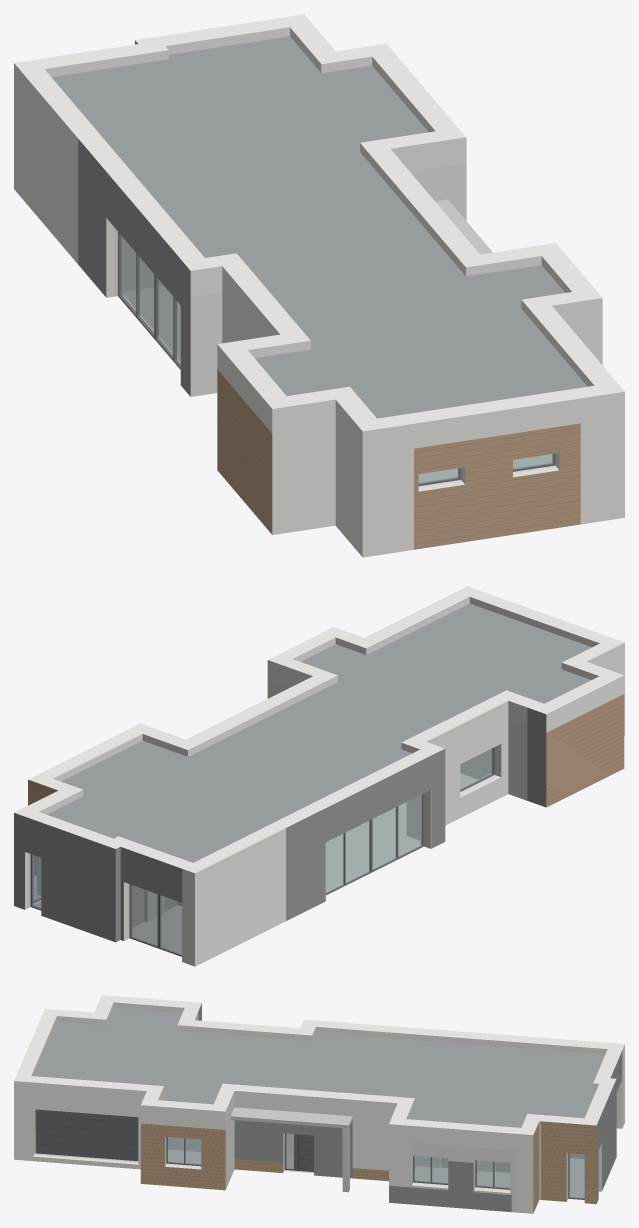
3 views of the same model, one above another, from view 1: azimuth 30°, elevation 25°; view 2: azimuth 150°, elevation 25°; view 3: azimuth 270°, elevation 25° (orthographic). The views are drawn at different scales.
Parts seen in each view (by area): view 1: material_014, material_017, material_015, material_019, material_018, material_011, material_003, material_012, material_002, material_020, material_000, material_016; view 2: material_014, material_015, material_018, material_017, material_003, material_019, material_012, material_011, material_000, material_002, material_010; view 3: material_014, material_017, material_015, material_019, material_018, material_011, material_004, material_003, material_016, material_012, material_000, material_007 (+2 smaller).
Part boxes in pixels (x1,y1,x2,y2): material_014: (51, 36, 587, 418); material_017: (14, 63, 624, 557); material_015: (14, 14, 624, 431); material_019: (217, 369, 580, 549); material_018: (78, 40, 190, 396); material_011: (106, 164, 559, 491); material_003: (120, 234, 552, 483); material_012: (124, 286, 551, 482); material_002: (118, 232, 555, 485); material_020: (217, 374, 580, 543); material_000: (114, 228, 556, 480); material_016: (435, 199, 492, 254); material_014: (47, 603, 591, 862); material_015: (14, 586, 624, 873); material_018: (14, 707, 546, 942); material_017: (182, 642, 624, 966); material_003: (32, 748, 492, 954); material_019: (28, 694, 624, 875); material_012: (34, 773, 477, 953); material_011: (25, 679, 527, 961); material_000: (29, 746, 496, 938); material_002: (30, 747, 494, 956); material_010: (133, 885, 176, 926); material_014: (34, 1008, 604, 1127); material_017: (14, 1044, 624, 1213); material_015: (14, 995, 624, 1150); material_019: (141, 1121, 596, 1213); material_018: (198, 1003, 622, 1212); material_011: (33, 1080, 622, 1212); material_004: (35, 1109, 138, 1160); material_003: (167, 1137, 584, 1198); material_016: (230, 1107, 352, 1192); material_012: (35, 1133, 584, 1197); material_000: (34, 1092, 616, 1199); material_007: (285, 1133, 313, 1171).
Size of the model in its own units: 15.84 by 4.4 by 29.21.
